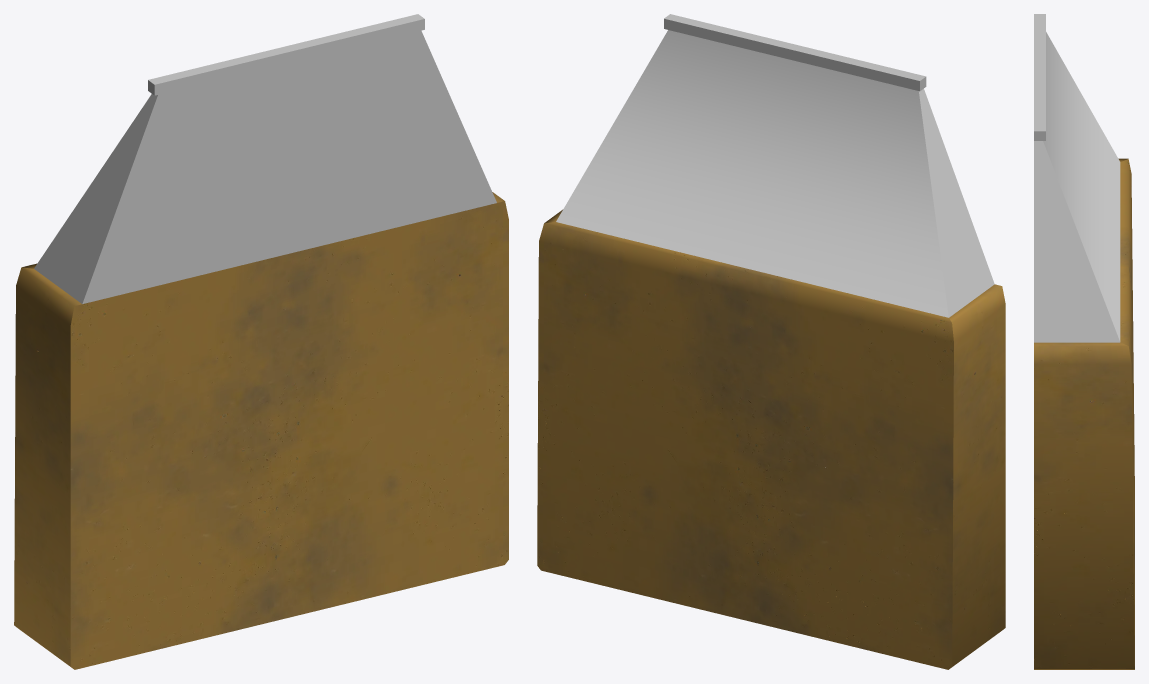
The picture shows the model from 3 angles, left to right: view 1: azimuth 30°, elevation 25°; view 2: azimuth 150°, elevation 25°; view 3: azimuth 270°, elevation 25°; orthographic projection. The views are drawn at different scales.
Parts seen in each view (by area): view 1: SM_DK_2m_WallBase_02_LOD0; view 2: SM_DK_2m_WallBase_02_LOD0; view 3: SM_DK_2m_WallBase_02_LOD0.
Boxes of the visible parts, x1,y1,x2,y2 form: SM_DK_2m_WallBase_02_LOD0: [14, 14, 508, 669]; SM_DK_2m_WallBase_02_LOD0: [537, 14, 1005, 669]; SM_DK_2m_WallBase_02_LOD0: [1034, 14, 1134, 669].
Size of the model in its own units: 3.24 by 4 by 0.7246.
